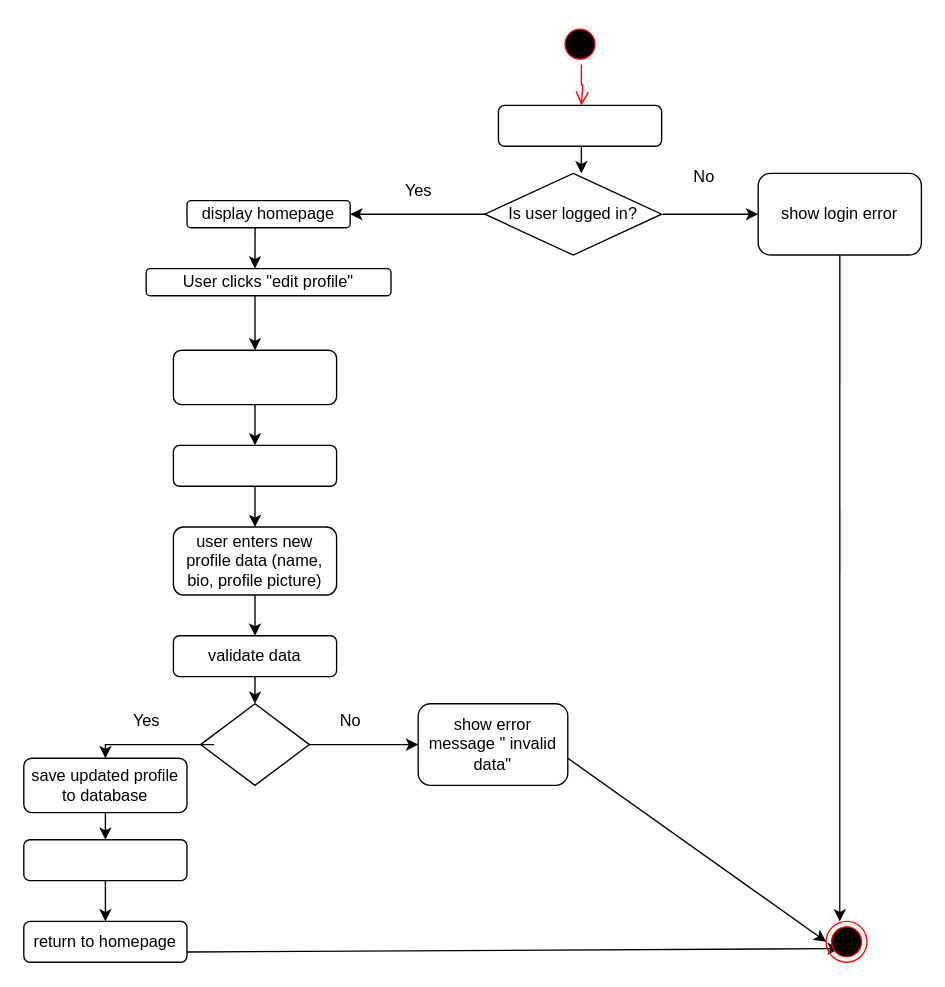
The diagram is 945 pixels wide and 987 high, and some of its shapes have lost their labels. The shapes that lost their labels are listed below. From the top down, each one's box as (x1, y1, x2, y2) in pixels, then its label:
(497, 104, 662, 146): Log in to system
(172, 349, 337, 405): retrieve current profile data from database
(172, 444, 337, 486): display editable profile form
(199, 702, 309, 785): is data valid?
(22, 838, 187, 881): confirm profile update to user
